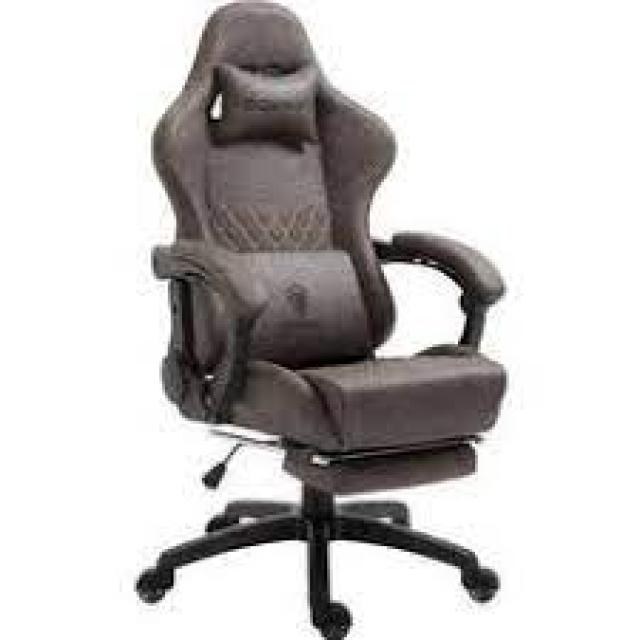chair: (125, 0, 545, 640)
